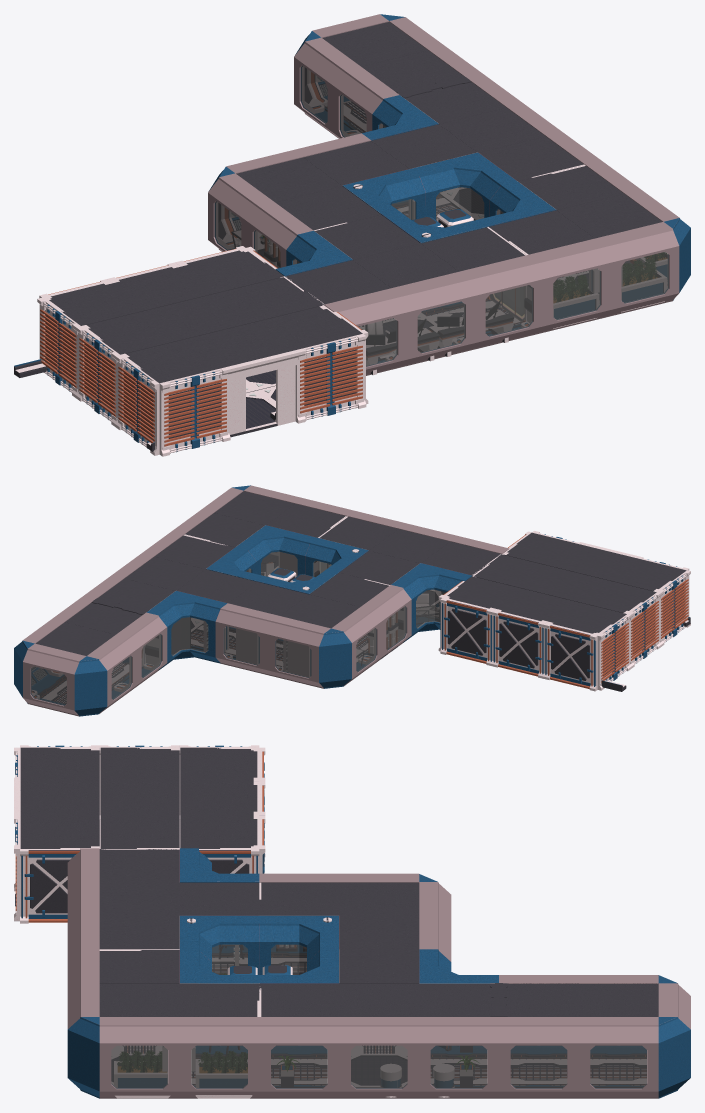
The model's file is L1- Science Lab - Q Space_v3.fbx.
3 renders of one model, top to bottom at view 1: azimuth 30°, elevation 25°; view 2: azimuth 150°, elevation 25°; view 3: azimuth 270°, elevation 25°, orthographic. The views are drawn at different scales.
Parts seen in each view (by area): view 1: decorative_wall_1_LOD0_6, decorative_wall_1_LOD0_4, window_big_plug_5.002, window_big_plug_5.001, window_big_plug_5, window_big_plug_4, window_big_corner_plug, decorative_wall_1_LOD0_7, decorative_wall_1_LOD0_8, decorative_wall_1_LOD0_5, window_big_plug_3, floor_2_no_lattice_LOD0_1 (+62 smaller); view 2: decorative_wall_3_LOD0_2, decorative_wall_3, decorative_wall_3_LOD0_7, window_big_corner_plug_1, window_big_plug_2.007, window_big_plug_2.006, window_big_plug_2.005, window_big_corner_plug_2, window_big_corner_plug_4, decorative_wall_1_LOD0_5, window_big_corner_far_plug__1__1.001, decorative_wall_1_LOD0_8 (+64 smaller); view 3: window_big_plug_1, window_big_plug, window_big_plug_2.001, window_big_plug_2.003, window_big_plug_2, window_big_plug_5.003, window_big_plug_5.004, decorative_wall_3_LOD0_4, window_big_corner_plug_5, window_big_corner_plug_3, floor_2_no_lattice_LOD0_5, floor_5__1__1 (+61 smaller).
Boxes of the visible parts, x1,y1,x2,y2 form: decorative_wall_1_LOD0_6: [159, 367, 230, 456]; decorative_wall_1_LOD0_4: [295, 334, 366, 423]; window_big_plug_5.002: [596, 222, 679, 317]; window_big_plug_5.001: [528, 238, 611, 333]; window_big_plug_5: [460, 255, 543, 350]; window_big_plug_4: [392, 271, 475, 366]; window_big_corner_plug: [411, 152, 516, 219]; decorative_wall_1_LOD0_7: [115, 355, 159, 455]; decorative_wall_1_LOD0_8: [76, 326, 119, 426]; decorative_wall_1_LOD0_5: [37, 297, 80, 397]; window_big_plug_3: [324, 288, 407, 375]; floor_2_no_lattice_LOD0_1: [439, 108, 545, 152]; decorative_wall_3_LOD0_2: [543, 623, 597, 691]; decorative_wall_3: [440, 598, 493, 665]; decorative_wall_3_LOD0_7: [492, 610, 545, 678]; window_big_corner_plug_1: [146, 590, 227, 669]; window_big_plug_2.007: [215, 603, 278, 675]; window_big_plug_2.006: [267, 616, 330, 688]; window_big_plug_2.005: [23, 643, 86, 716]; window_big_corner_plug_2: [391, 563, 471, 642]; window_big_corner_plug_4: [236, 525, 316, 575]; decorative_wall_1_LOD0_5: [597, 614, 631, 690]; window_big_corner_far_plug__1__1.001: [74, 656, 107, 716]; decorative_wall_1_LOD0_8: [628, 592, 660, 668]; window_big_plug_1: [339, 1017, 419, 1098]; window_big_plug: [259, 1017, 339, 1098]; window_big_plug_2.001: [499, 1017, 578, 1098]; window_big_plug_2.003: [579, 1017, 658, 1098]; window_big_plug_2: [419, 1017, 498, 1098]; window_big_plug_5.003: [99, 1017, 179, 1098]; window_big_plug_5.004: [179, 1017, 259, 1098]; decorative_wall_3_LOD0_4: [20, 849, 80, 923]; window_big_corner_plug_5: [259, 915, 339, 974]; window_big_corner_plug_3: [179, 915, 259, 974]; floor_2_no_lattice_LOD0_5: [99, 882, 179, 916]; floor_5__1__1: [339, 882, 419, 916].
Bounding box in the file's own units: 3539 × 414 × 3392.
